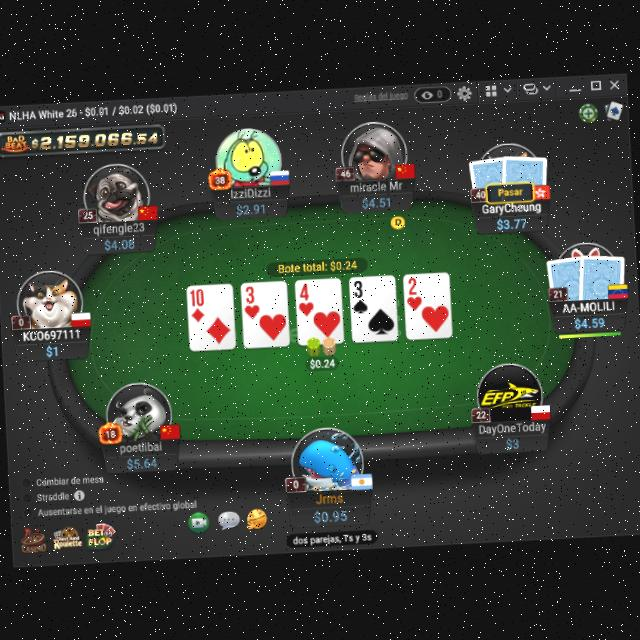2h: (404, 274, 424, 314)
3h: (242, 282, 262, 320)
3s: (350, 278, 370, 316)
4h: (297, 281, 315, 318)
Td: (188, 286, 208, 323)
bet_text: (308, 356, 336, 370)
card_back: (576, 248, 628, 300), (498, 148, 550, 200), (544, 252, 588, 300), (467, 152, 510, 198)
dealer: (389, 213, 407, 230)
pot_text: (277, 256, 361, 272)
stack_text: (312, 506, 349, 525), (495, 213, 529, 231), (125, 452, 159, 469), (572, 313, 606, 329), (103, 236, 136, 252), (360, 194, 392, 210), (234, 201, 266, 216), (44, 342, 62, 358), (504, 436, 520, 450)
